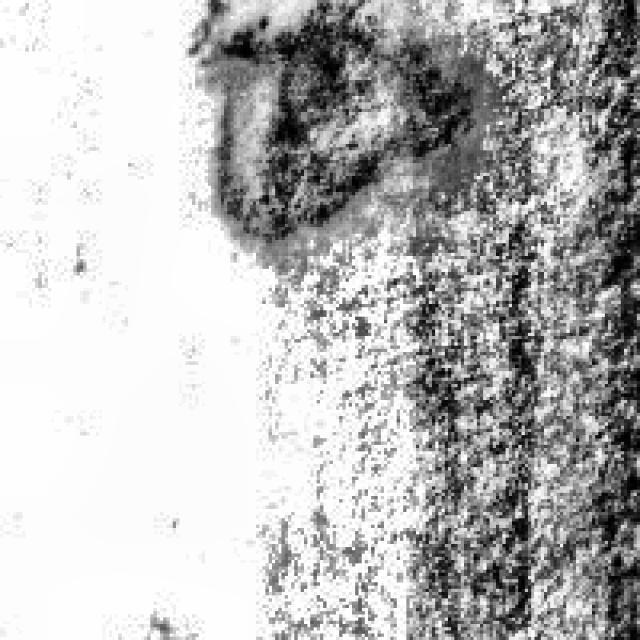Scratches: (208, 0, 477, 237)
